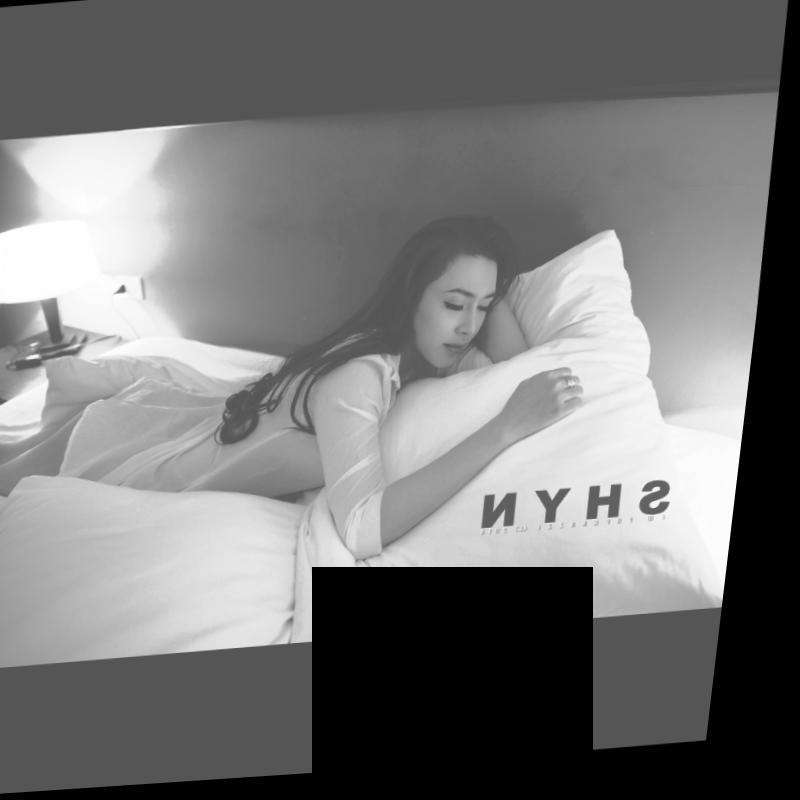pillow: (299, 226, 775, 647)
